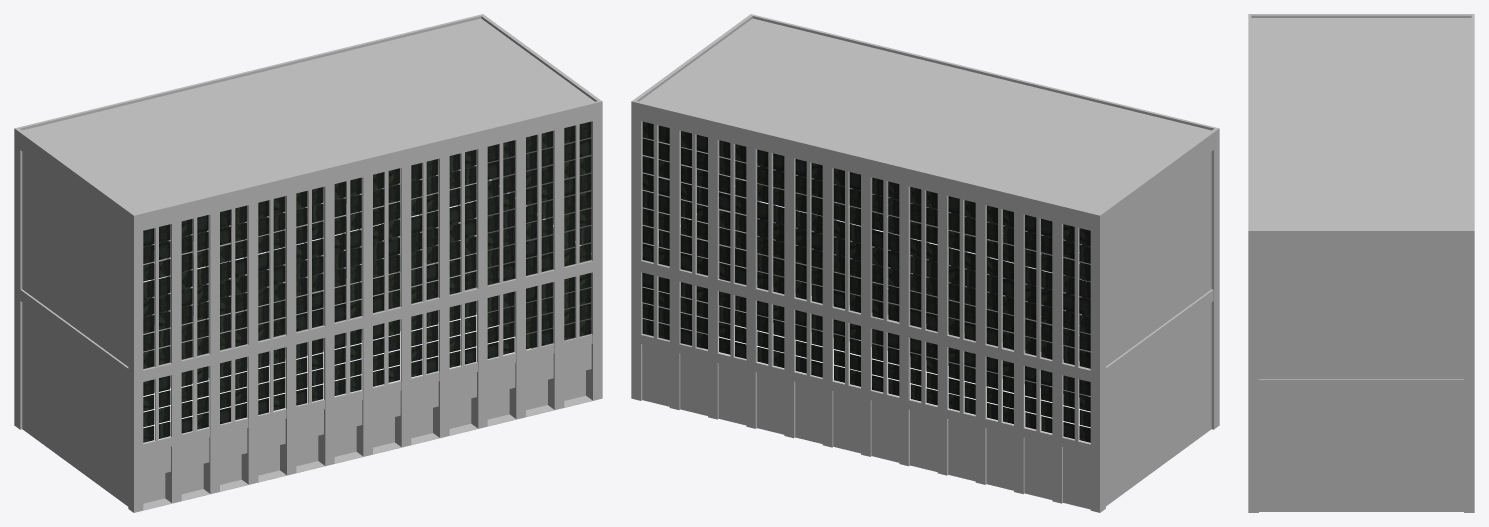
3 views of the same model, side by side, from view 1: azimuth 30°, elevation 25°; view 2: azimuth 150°, elevation 25°; view 3: azimuth 270°, elevation 25° (orthographic). The views are drawn at different scales.
Visible parts, largest first — view 1: BB-011; view 2: BB-011; view 3: BB-011.
Boxes of the visible parts, x1,y1,x2,y2 form: BB-011: [14, 14, 602, 512]; BB-011: [631, 14, 1219, 512]; BB-011: [1248, 14, 1474, 512].
Size of what is drawn, in the model's own units: 63.09 by 38.23 by 27.84.
